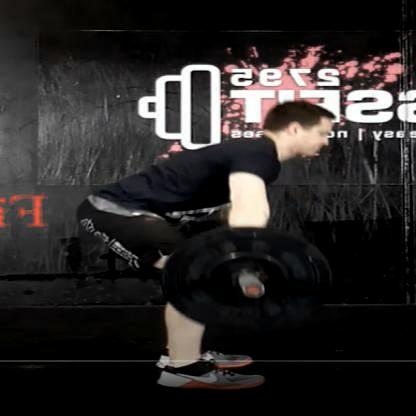Barbell: (238, 282, 264, 301)
